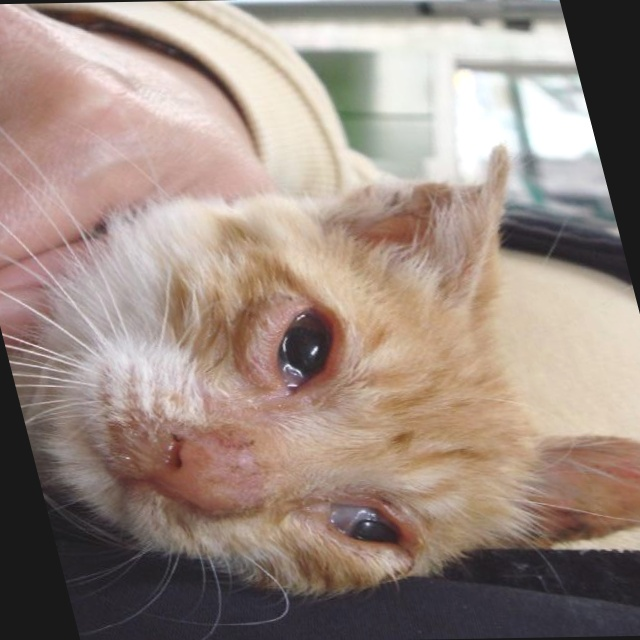eye_infection: (247, 305, 356, 393), (314, 493, 418, 565)
